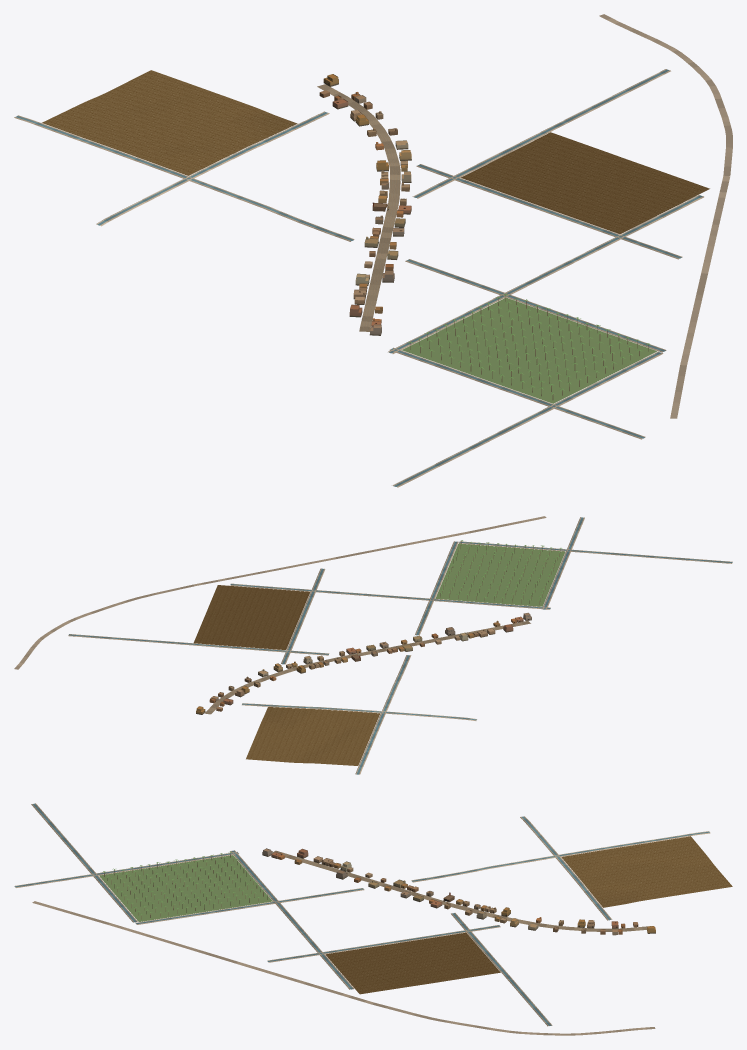
The model's file is uruk_quarter_17.glb.
The picture shows the model from 3 angles, top to bottom: view 1: azimuth 30°, elevation 25°; view 2: azimuth 150°, elevation 25°; view 3: azimuth 270°, elevation 25°; orthographic projection. The views are drawn at different scales.
Parts seen in each view (by area): view 1: uruk_quarter_17; view 2: uruk_quarter_17; view 3: uruk_quarter_17.
Boxes of the visible parts, x1=… form: uruk_quarter_17: x1=14, y1=14, x2=732, y2=487; uruk_quarter_17: x1=14, y1=516, x2=732, y2=774; uruk_quarter_17: x1=14, y1=803, x2=732, y2=1035.
Size of the model in its own units: 708 by 9.69 by 925.
Materials: 20 (6 with a texture image).
